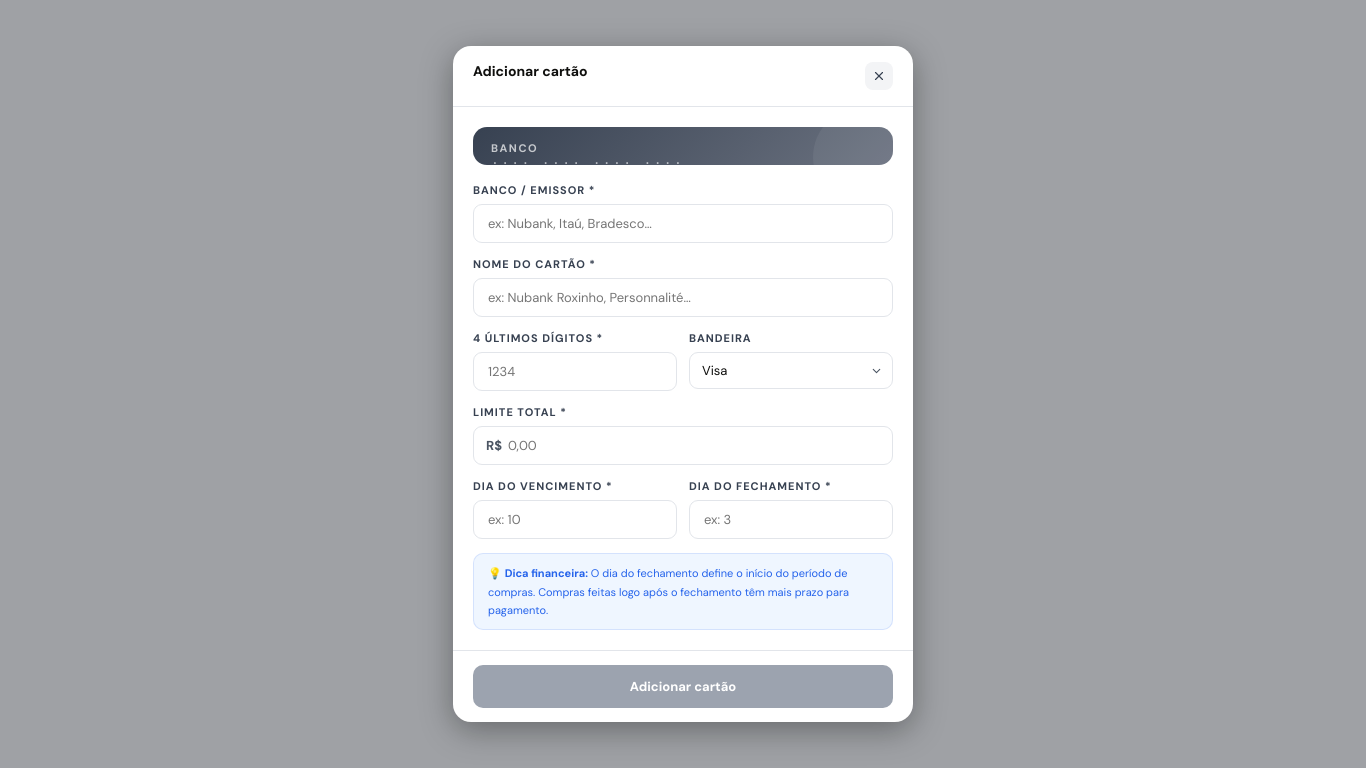
CardFormSheet — foco nos campos › aceita apenas digitos e no maximo 4 no campo de 4 digitos
Click the field with placeholder "1234" at (575, 372), box [486,362,664,382]
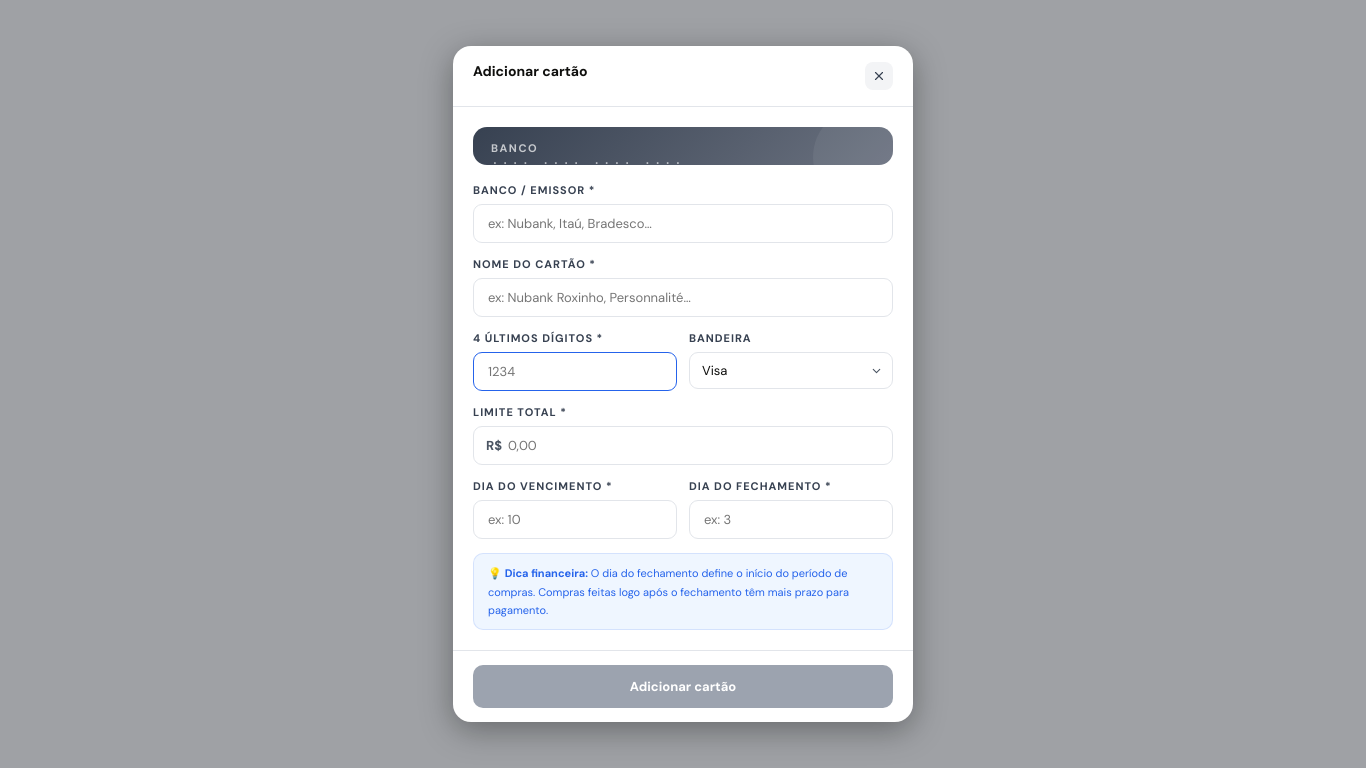
Type keys "12a34567"
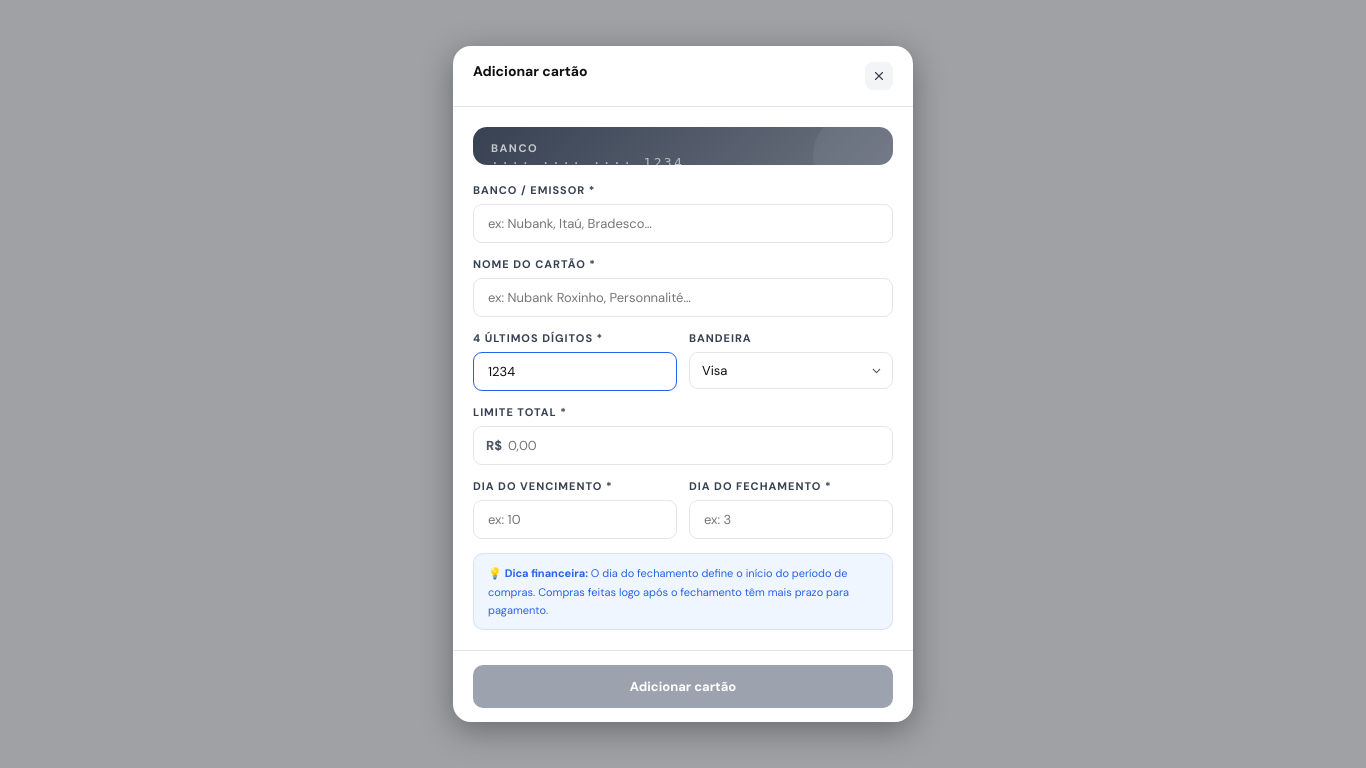
Now the field with placeholder "1234" holds "1234", box [486,362,664,382]
